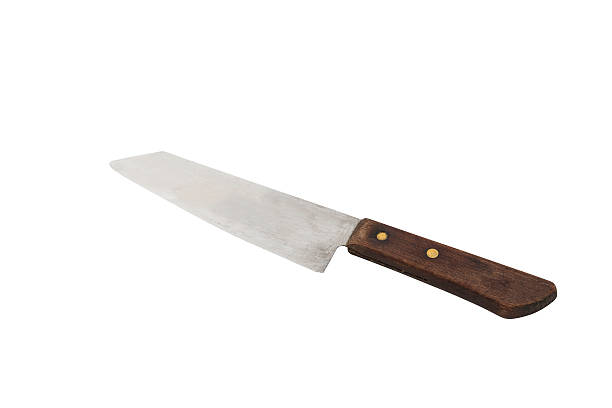knife: (108, 151, 559, 319)
